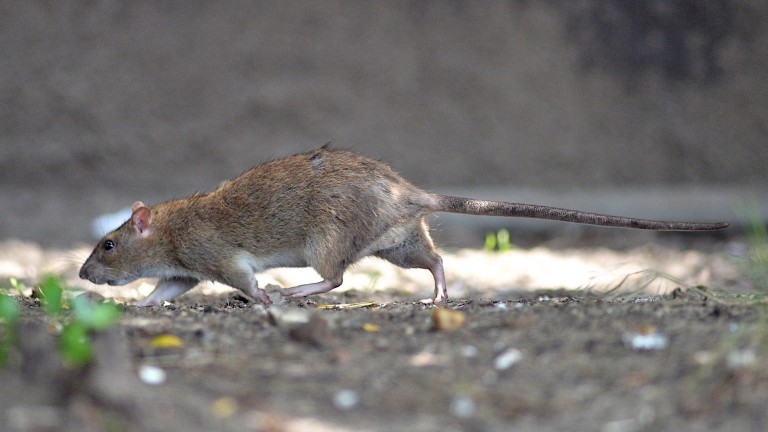rat: (60, 130, 735, 322)
